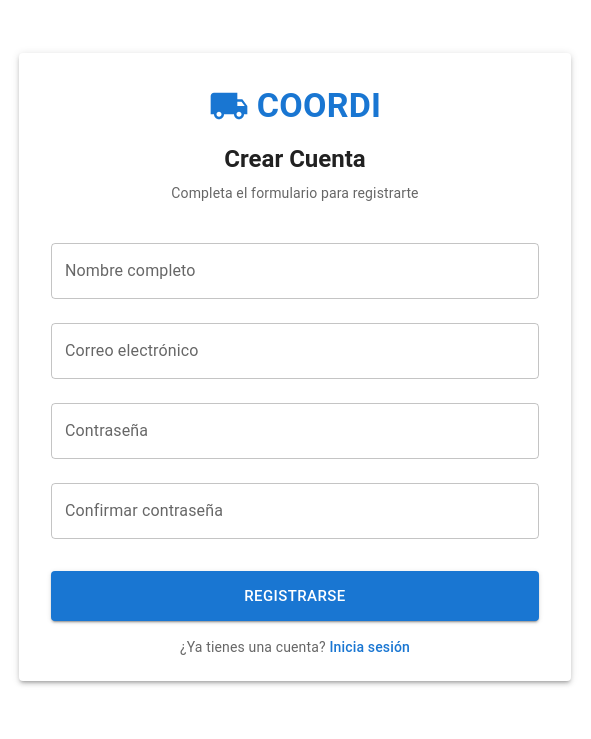
RegisterForm › should show error when registerUser fails
The width and height of the screenshot is (591, 739).
Type "Test User" into the field labelled "Nombre completo".
click(295, 271); type("Test User")  # box [51,243,539,299]
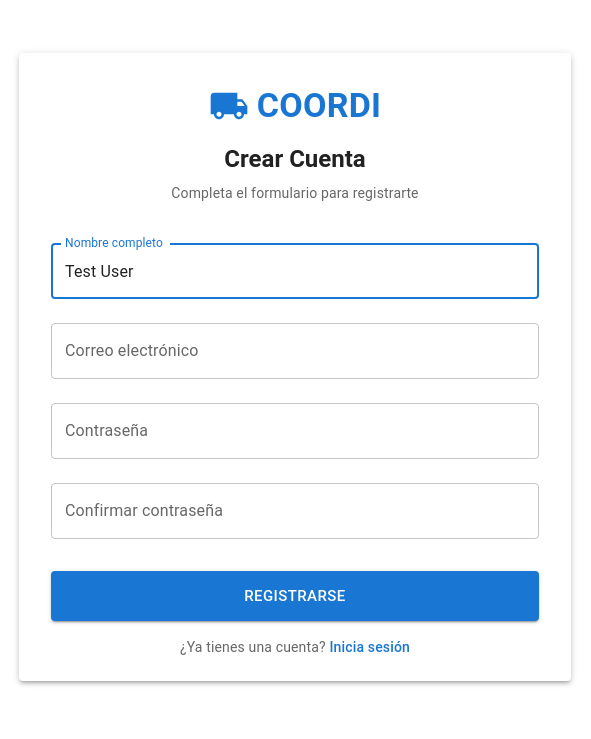
Type "test@example.com" into the field labelled "Correo electrónico".
click(295, 351); type("test@example.com")  # box [51,323,539,379]
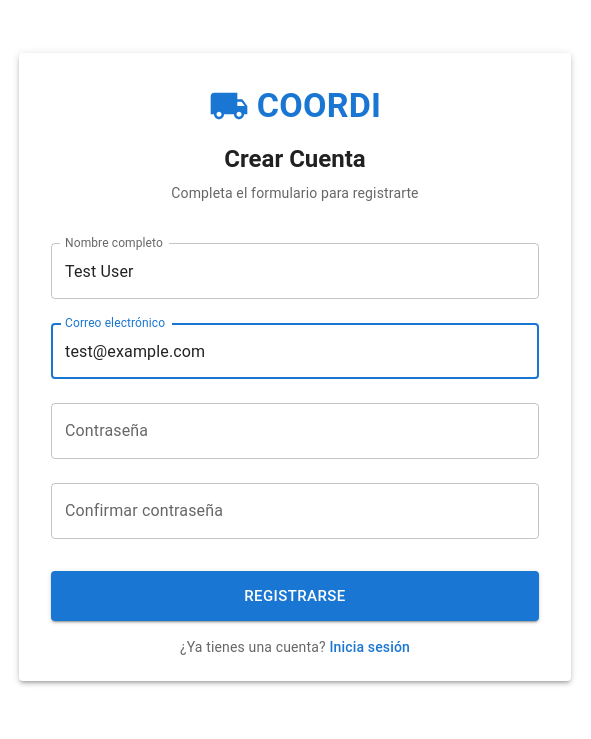
Type "password123" into the password field labelled "Contraseña".
click(295, 431); type("password123")  # box [51,403,539,459]
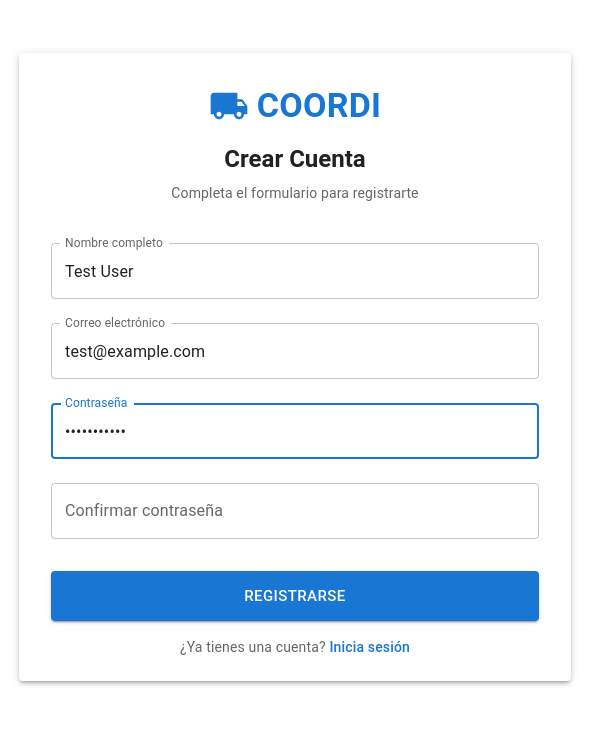
Type "password123" into the password field labelled "Confirmar contraseña".
click(295, 511); type("password123")  # box [51,483,539,539]
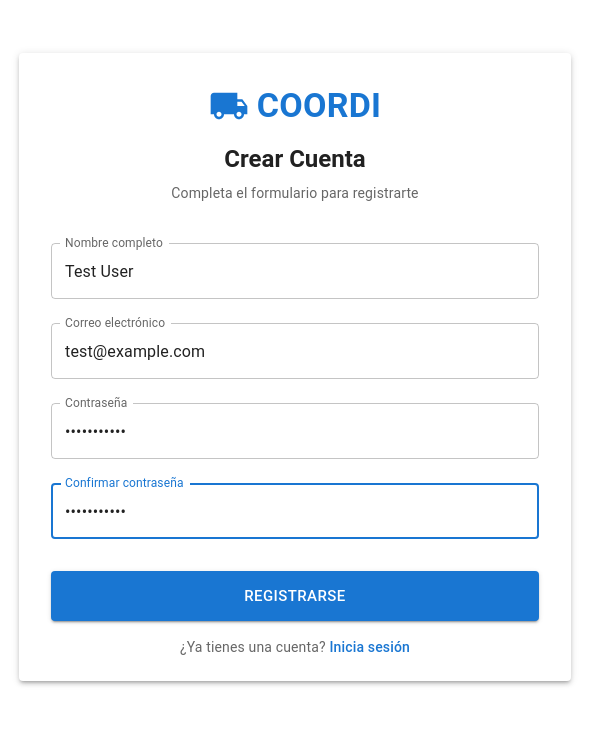
Click the button "Registrarse".
click(295, 596)  # box [51,571,539,621]
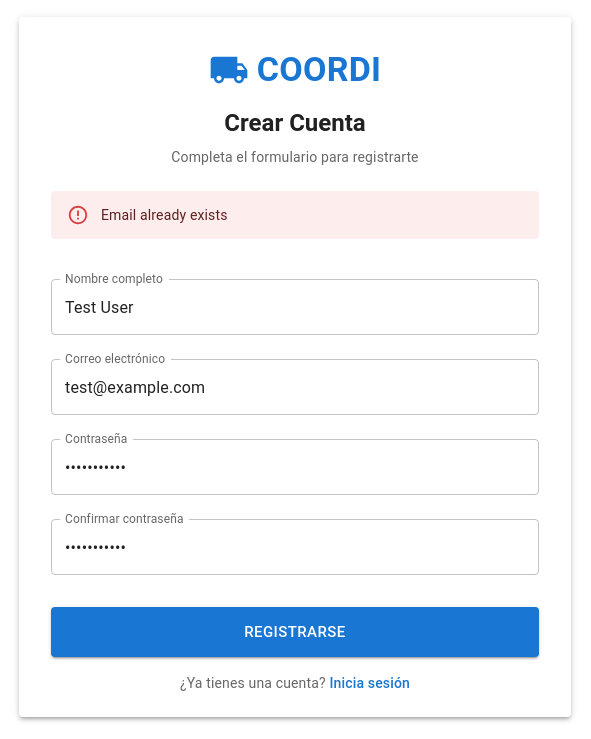
Check: the text "Email already exists" is shown, box [101,207,228,223]
